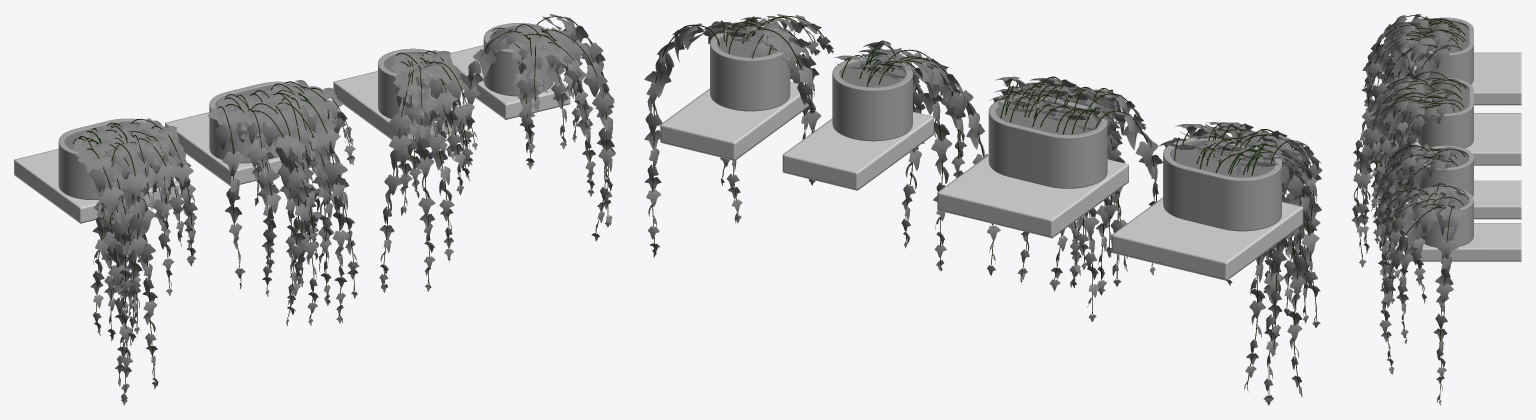
Rendered from 小挂壁.FBX.
3 renders of one model, left to right at view 1: azimuth 30°, elevation 25°; view 2: azimuth 150°, elevation 25°; view 3: azimuth 270°, elevation 25°, orthographic. The views are drawn at different scales.
Parts seen in each view (by area): view 1: Obj3d66-537771-10-162, Obj3d66-537771-9-951, Obj3d66-537771-11-890, Obj3d66-537771-12-300; view 2: Obj3d66-537771-9-951, Obj3d66-537771-10-162, Obj3d66-537771-11-890, Obj3d66-537771-12-300; view 3: Obj3d66-537771-10-162, Obj3d66-537771-12-300, Obj3d66-537771-9-951, Obj3d66-537771-11-890.
Boxes of the visible parts, box(x1,y1,x2,y2) form: Obj3d66-537771-10-162: box(165, 80, 359, 325); Obj3d66-537771-9-951: box(14, 118, 197, 405); Obj3d66-537771-11-890: box(333, 48, 477, 292); Obj3d66-537771-12-300: box(450, 14, 615, 241); Obj3d66-537771-9-951: box(1111, 122, 1322, 405); Obj3d66-537771-10-162: box(937, 76, 1162, 321); Obj3d66-537771-11-890: box(782, 40, 1000, 275); Obj3d66-537771-12-300: box(644, 14, 833, 257); Obj3d66-537771-10-162: box(1351, 69, 1521, 267); Obj3d66-537771-12-300: box(1372, 182, 1521, 405); Obj3d66-537771-9-951: box(1361, 14, 1521, 209); Obj3d66-537771-11-890: box(1371, 144, 1521, 306).
Size of the model in its own units: 1112 by 468 by 362.
